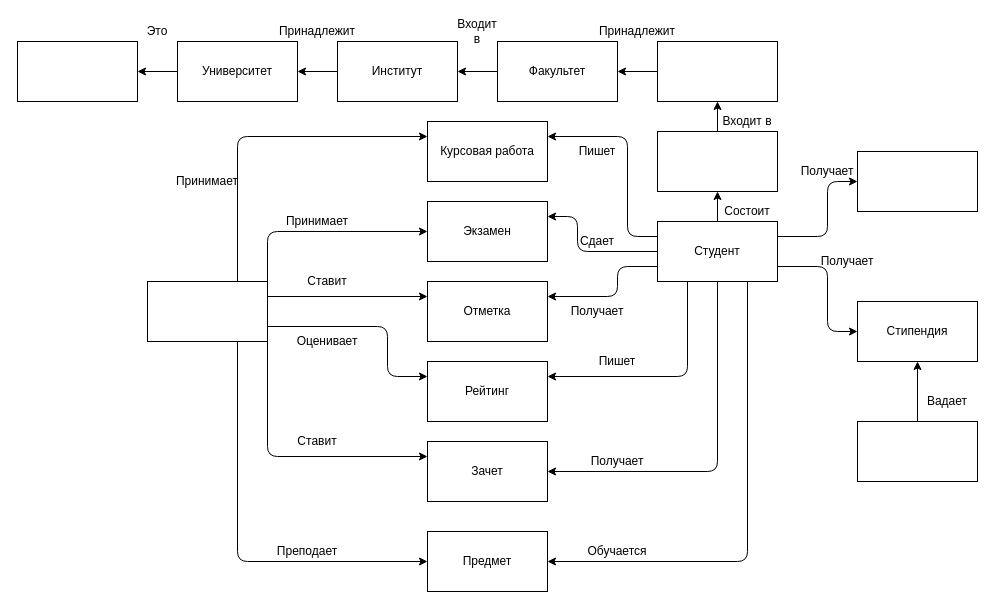
Image size: 995x609. Some labels were removed from this diagram. The centre of each missing label's shape, as x and y in pixels:
Бухгалтерия: (x=917, y=451)
ВУЗ: (x=77, y=71)
Группа: (x=717, y=161)
Диплом: (x=917, y=181)
Кафедра: (x=717, y=71)
Преподаватель: (x=207, y=311)
